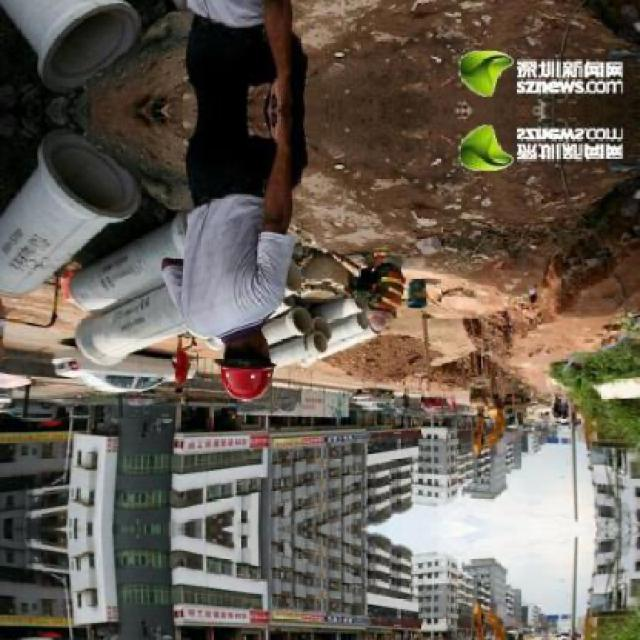con casco: (200, 316, 282, 424)
